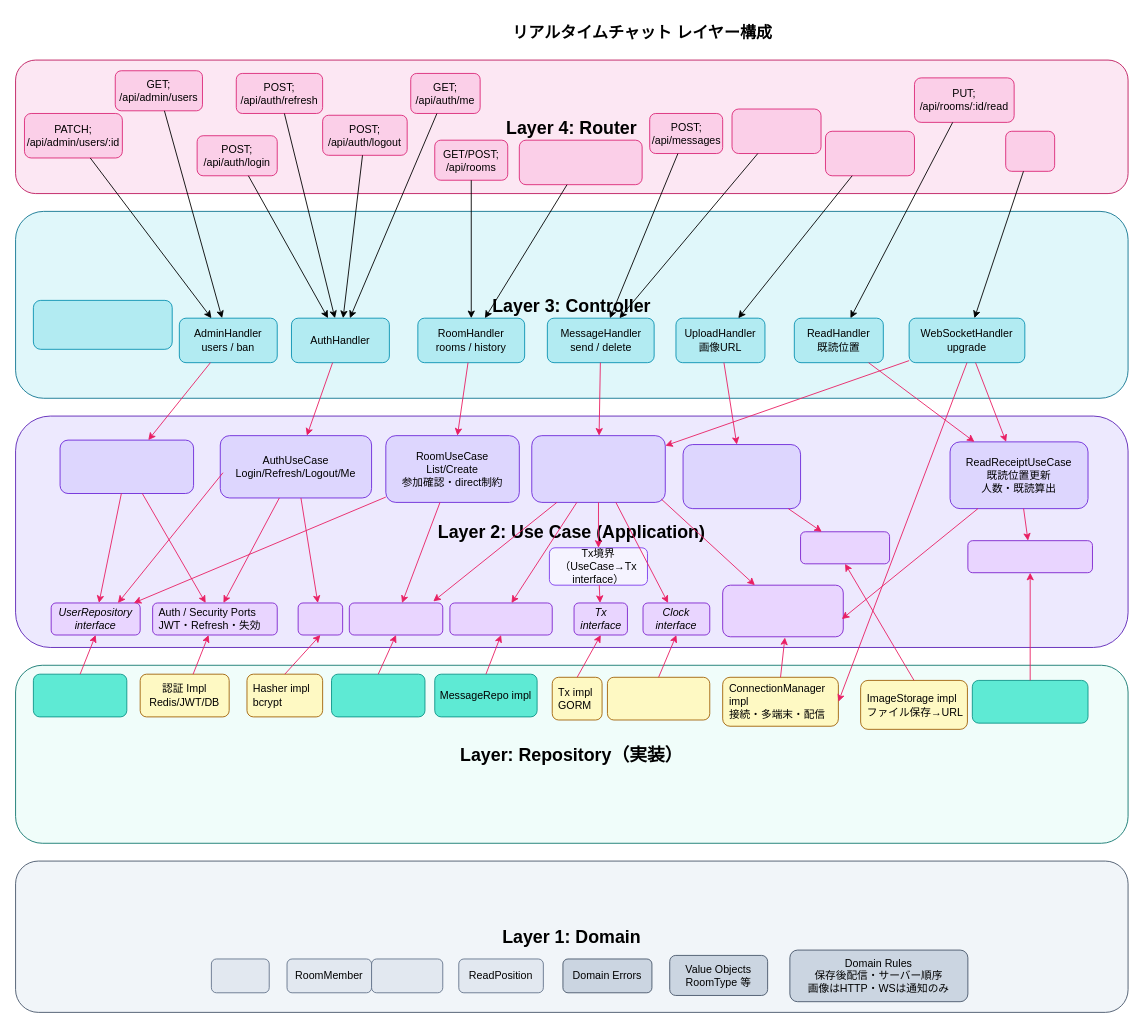
Image size: 1144x1028. Some labels were removed from this diagram. Each missing label, with the centre of its shape:
AdminUseCase Users / Ban(active): (x=126, y=466)
Clock impl Now() サーバー時刻: (x=658, y=698)
DELETE; /api/messages/:id: (x=776, y=131)
GET; /api/rooms/:id/messages: (x=580, y=162)
Hasher interface: (x=320, y=618)
ImageStorage interface: (x=845, y=547)
Message: (x=407, y=975)
MessageReadRepo impl: (x=1029, y=701)
MessageReadRepository interface: (x=1029, y=556)
MessageRepository interface: (x=500, y=618)
MessageUseCase Send/Delete 保存→配信ポート: (x=598, y=468)
Middleware JWT / role(user・admin) / RateLimit(Redis): (x=102, y=324)
POST; /api/upload/image: (x=869, y=153)
RoomRepo impl: (x=378, y=695)
RoomRepository interface: (x=395, y=618)
UploadUseCase 受信・保存・URL返却: (x=741, y=476)
User: (x=239, y=975)
UserRepo impl: (x=79, y=695)
WS; /ws: (x=1030, y=150)
配信 Port （ConnectionManager interface）ルーム配信: (x=782, y=610)
